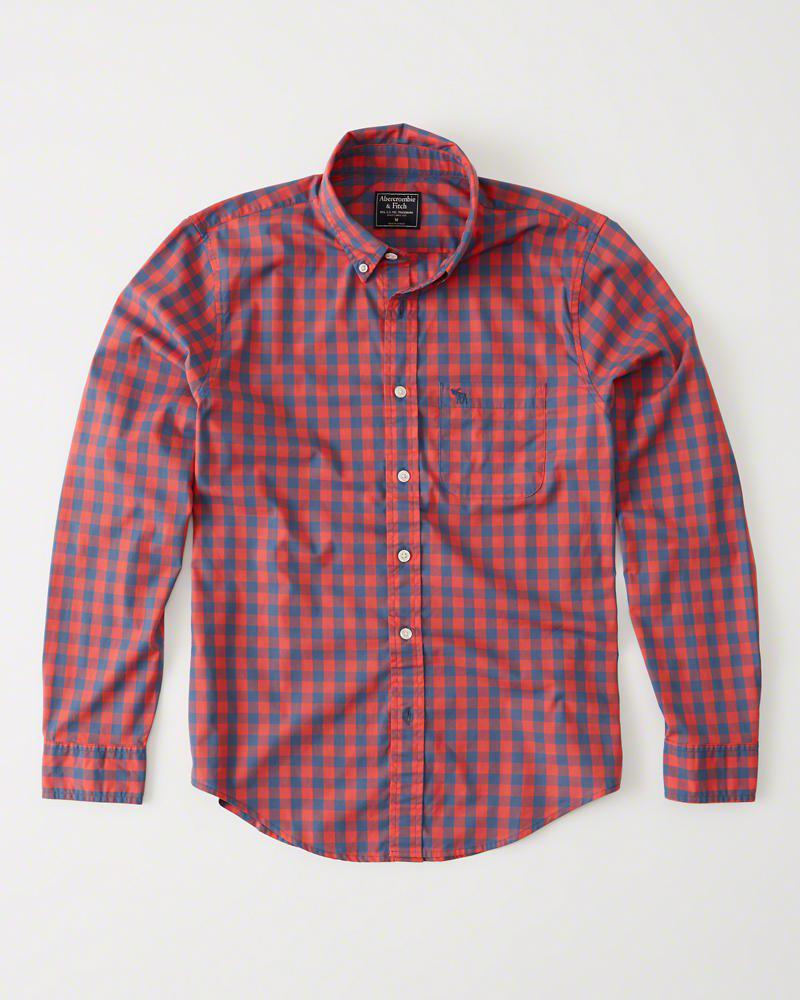teeshirt: (39, 116, 773, 865)
